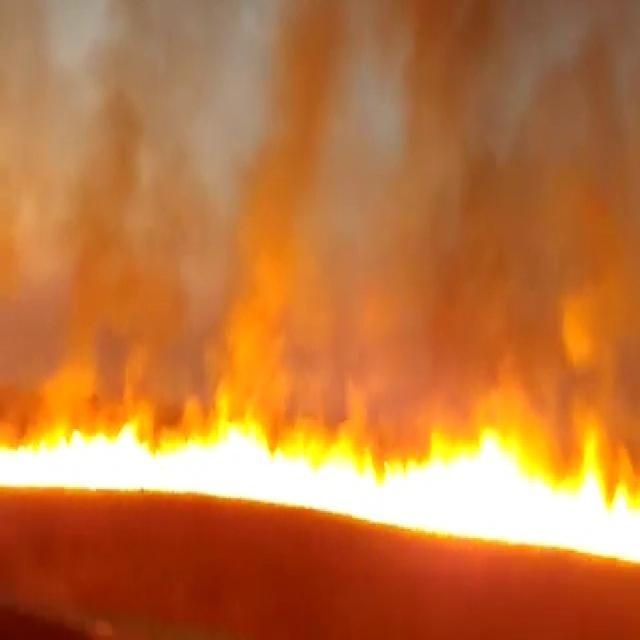Fire: (398, 470, 525, 530), (8, 440, 137, 492), (159, 446, 265, 493)
